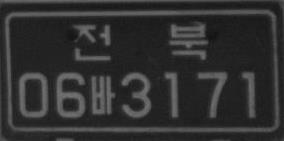0: (17, 71, 49, 118)
1: (234, 70, 264, 118), (159, 71, 188, 118)
3: (120, 71, 152, 118)
6: (55, 70, 85, 118)
7: (196, 71, 228, 118)
바: (90, 74, 116, 115)
전북_D: (74, 22, 209, 60)
